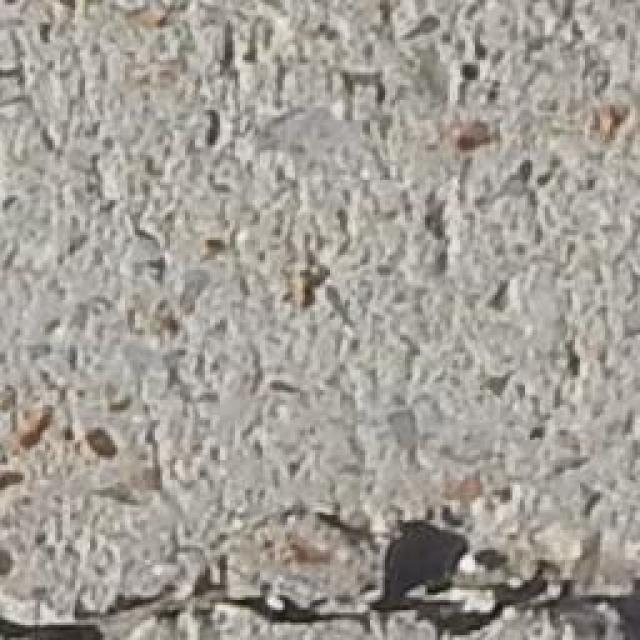concrete-crack: (0, 492, 640, 640)
